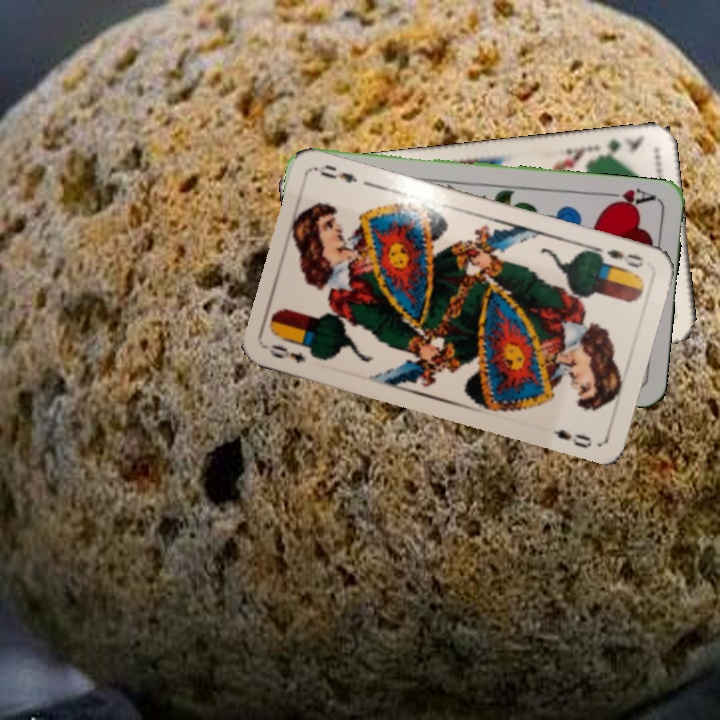EO: (593, 243, 646, 273), (265, 340, 309, 366)
GK: (593, 132, 646, 162)
HA: (600, 184, 659, 211)
